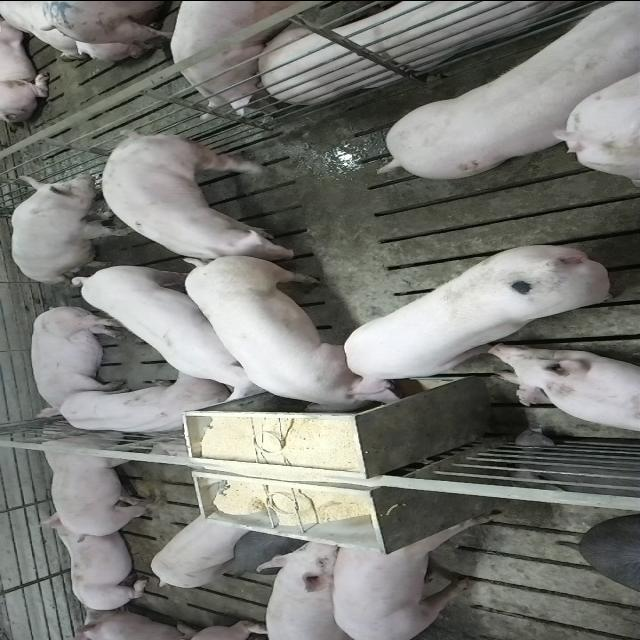Feeding: (338, 242, 615, 398), (174, 258, 384, 421)
Lateral_lying: (252, 0, 608, 101), (28, 302, 128, 418)
Sitting: (8, 172, 130, 284)
Standing: (373, 5, 637, 183), (68, 260, 286, 399), (96, 123, 312, 260), (332, 509, 502, 638), (34, 420, 172, 540), (167, 0, 301, 116), (254, 537, 380, 640), (150, 510, 250, 588)
Sternal_lying: (489, 345, 640, 433), (53, 375, 231, 437), (32, 521, 152, 611)
